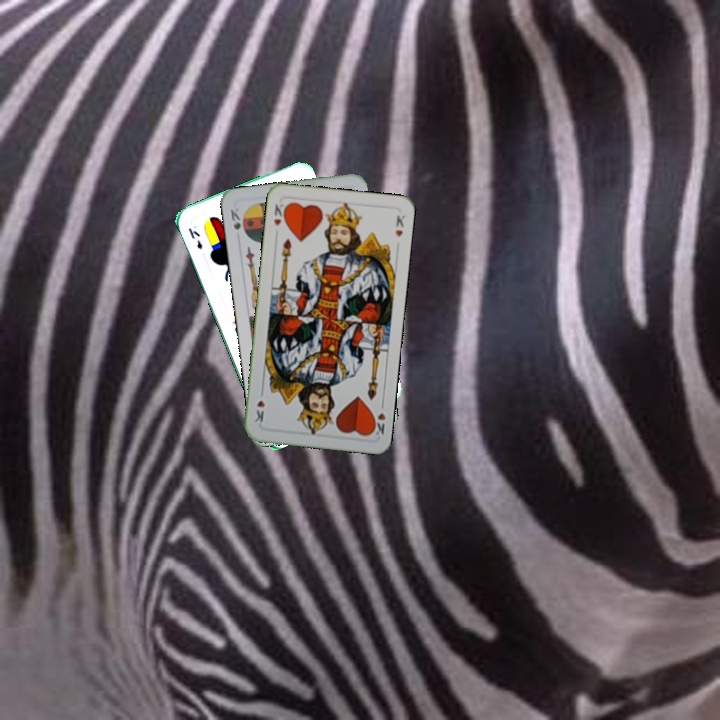EK: (184, 224, 205, 252)
HK: (367, 398, 388, 438), (270, 200, 289, 228)
SK: (226, 204, 243, 232)
